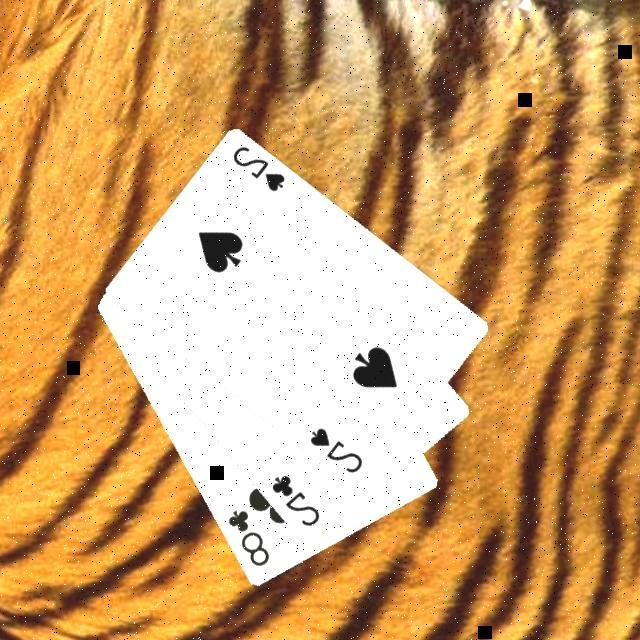2C: (268, 474, 322, 532)
2S: (306, 427, 366, 480), (228, 145, 288, 198)
8C: (223, 509, 272, 572)
